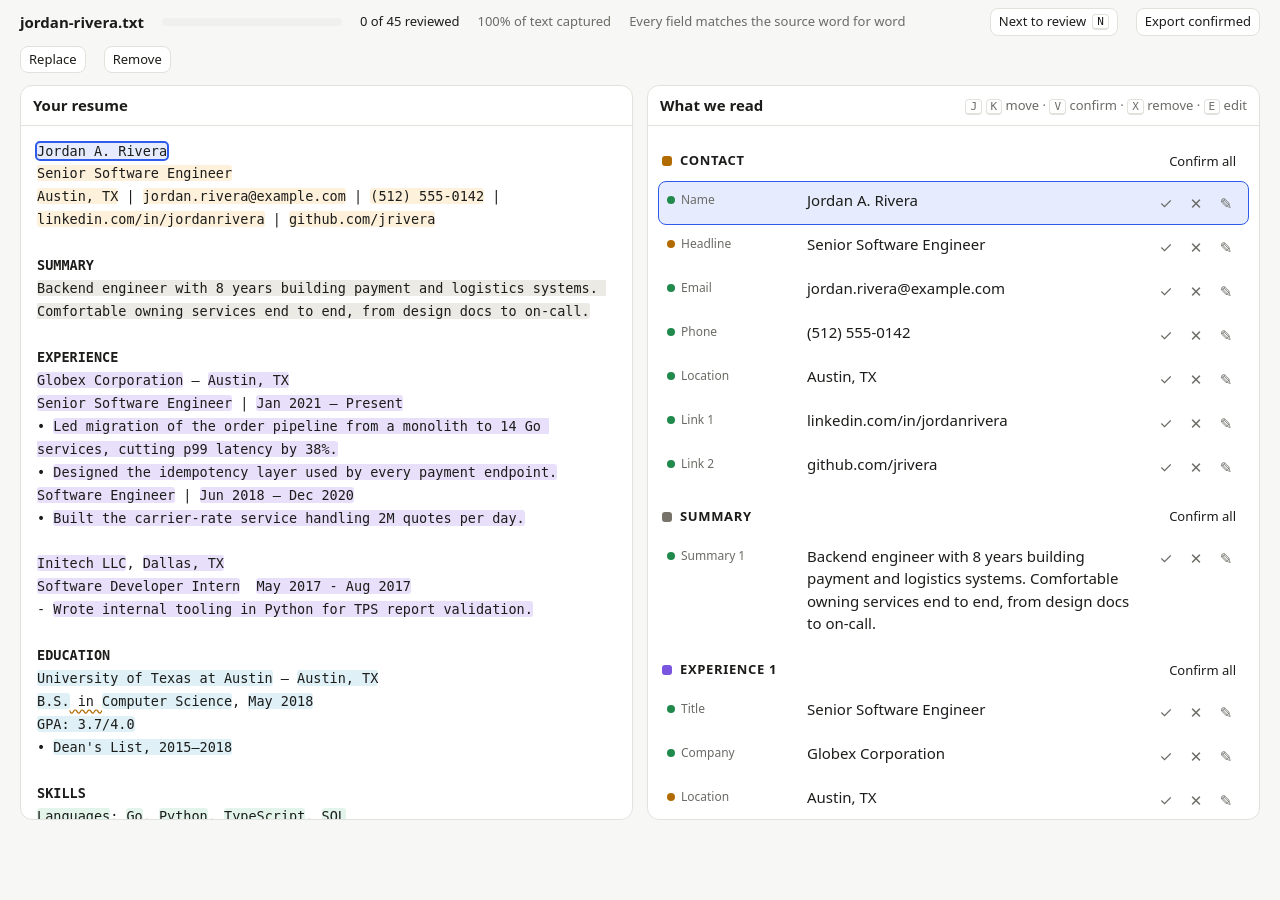
reviewing what was read › removes a field, which then counts as reviewed and is struck out
What coordinates should you click on to do the following:
click the button named "Remove"
I would click on:
 (1196, 247)
Its box is [1182,233,1210,261].
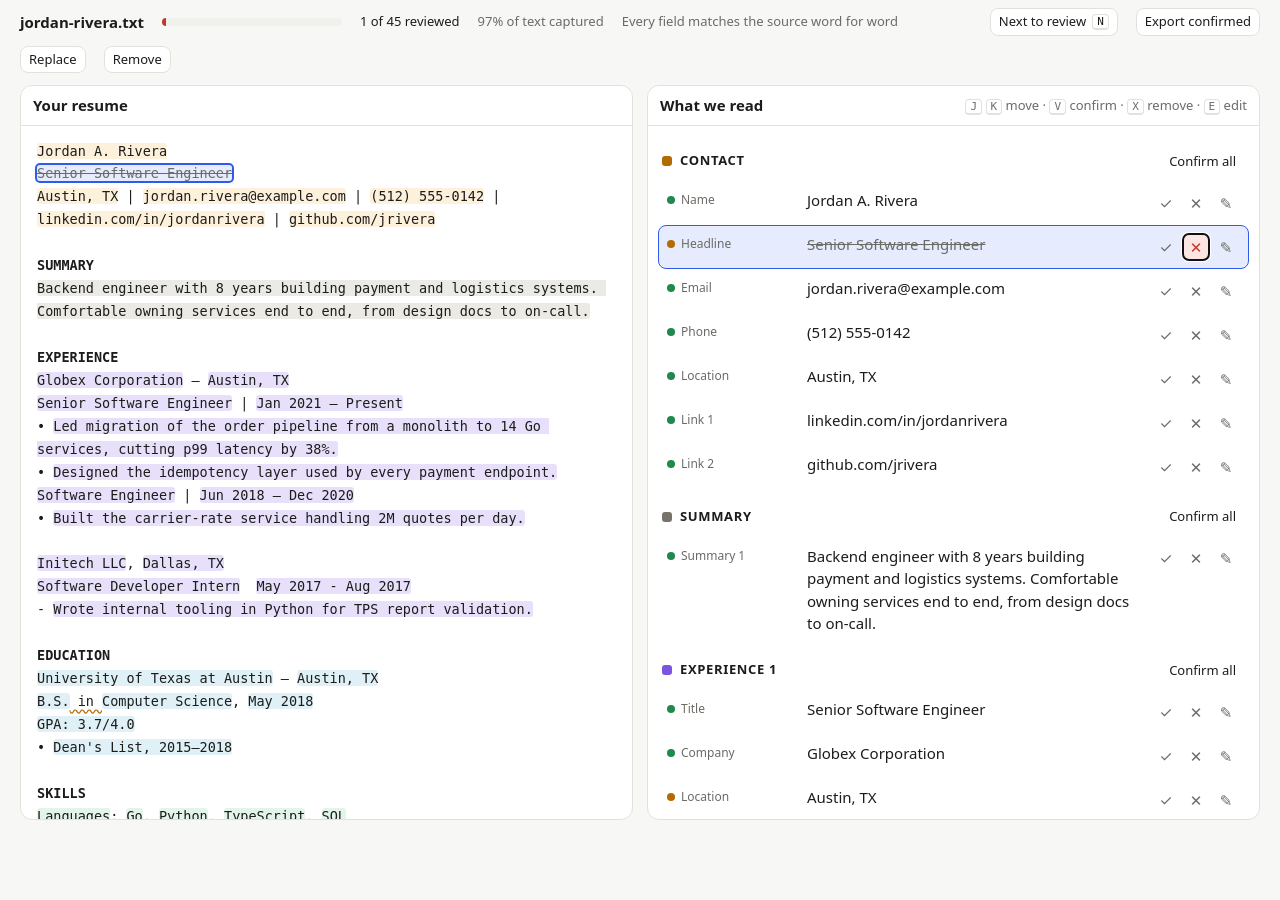
Expected: the text "1 of 45 reviewed" is shown, [360,12,460,32]
